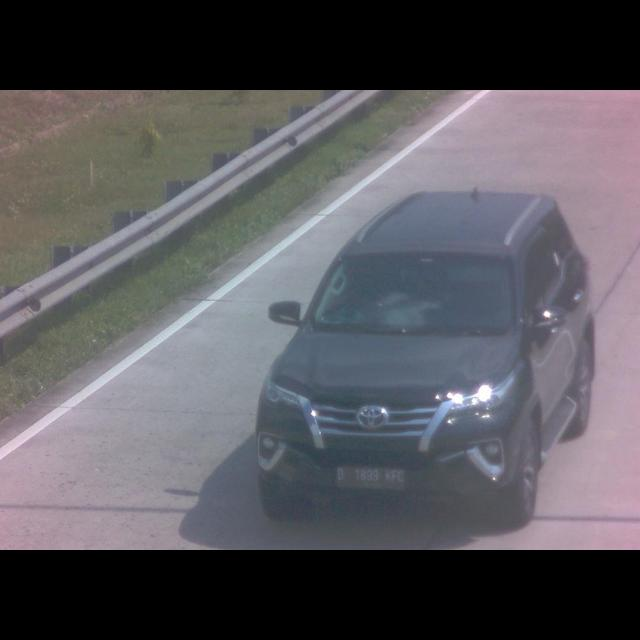plate: (331, 462, 409, 494)
